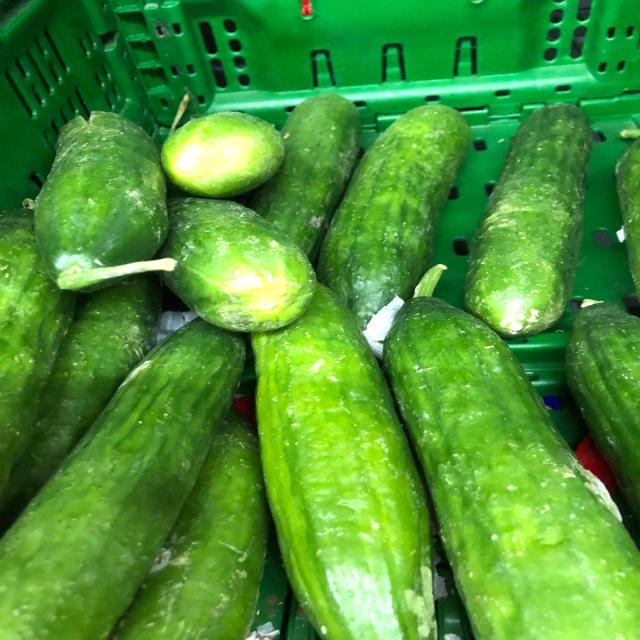cucumber: (378, 261, 640, 640), (0, 310, 280, 640), (245, 271, 415, 640), (320, 98, 496, 332), (459, 91, 612, 330)
